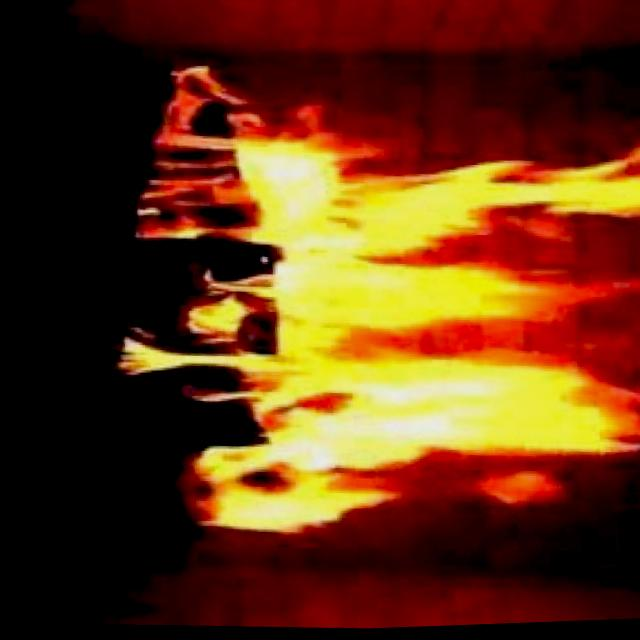helmet: (62, 33, 640, 568)
